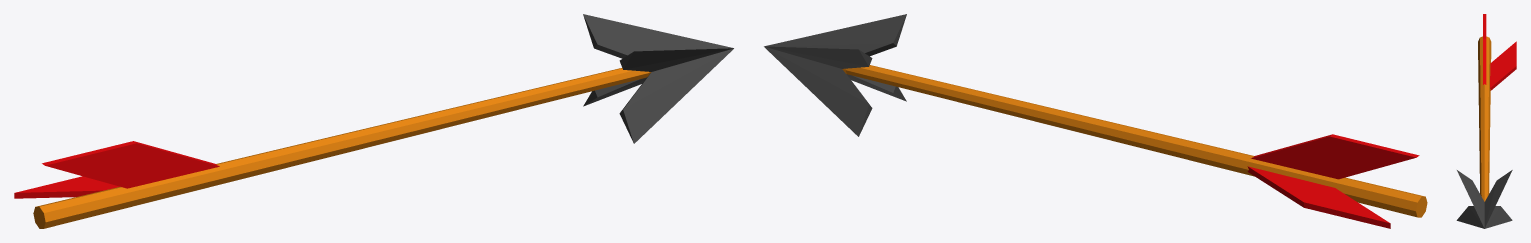
Rendered from arrow.glb.
The picture shows the model from 3 angles, left to right: view 1: azimuth 30°, elevation 25°; view 2: azimuth 150°, elevation 25°; view 3: azimuth 270°, elevation 25°; orthographic projection. The views are drawn at different scales.
Visible parts, largest first — view 1: Arrow; view 2: Arrow; view 3: Arrow.
Part boxes in pixels (x1,y1,x2,y2): Arrow: (14, 14, 733, 228); Arrow: (764, 14, 1427, 228); Arrow: (1456, 14, 1516, 228).
Bounding box in the file's own units: 0.3733 × 0.0507 × 0.0507.
